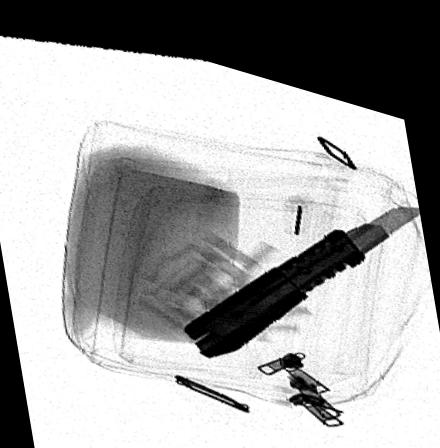Knife: (179, 181, 420, 347)
